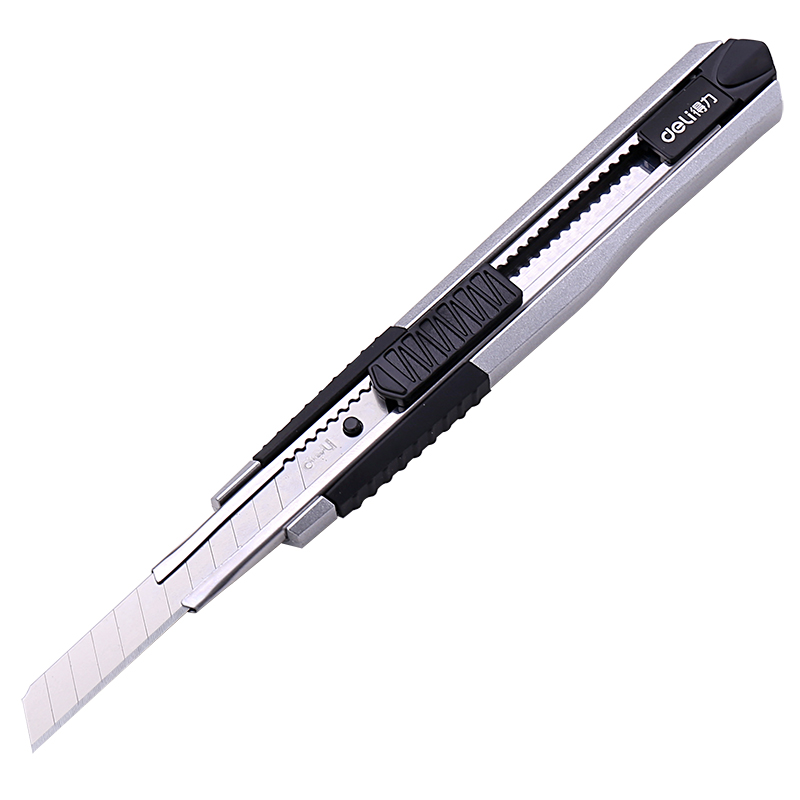cutter: (20, 35, 784, 756)
